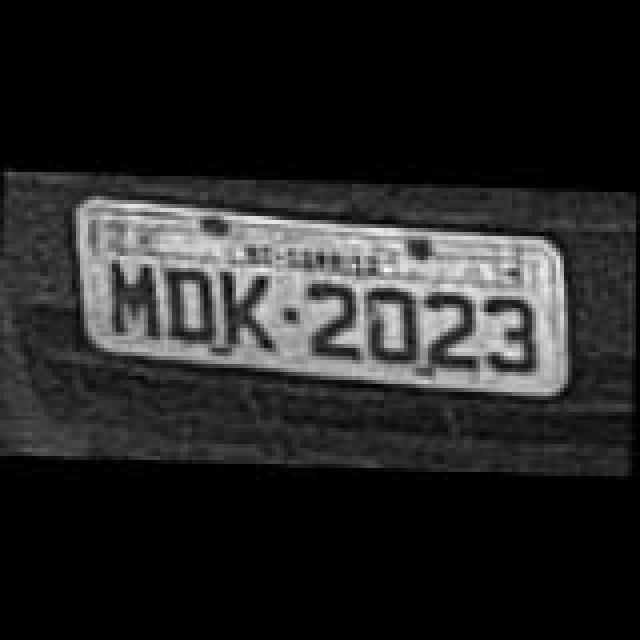2: (420, 282, 484, 366), (306, 278, 366, 354)
3: (482, 290, 542, 370)
D: (362, 284, 422, 360), (162, 262, 222, 338)
K: (212, 264, 276, 348)
M: (102, 256, 162, 332)
